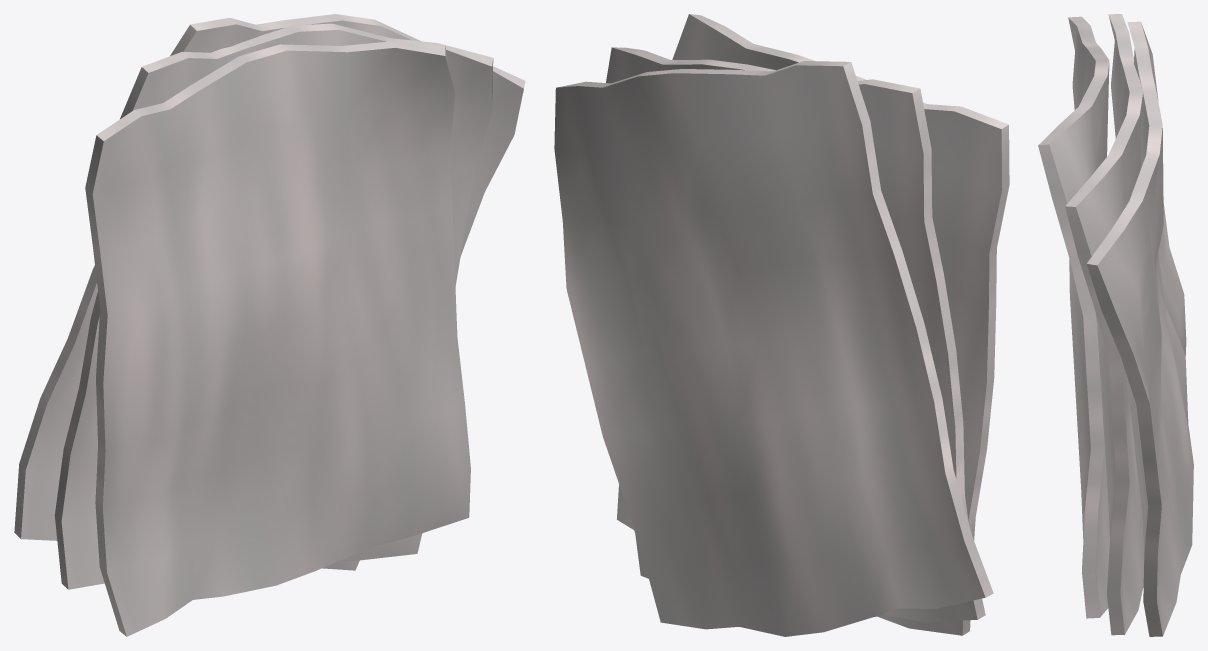
Rendered from yuba_001.fbx.
The picture shows the model from 3 angles, left to right: view 1: azimuth 30°, elevation 25°; view 2: azimuth 150°, elevation 25°; view 3: azimuth 270°, elevation 25°; orthographic projection. The views are drawn at different scales.
Visible parts, largest first — view 1: polySurface8; view 2: polySurface8; view 3: polySurface8.
Part boxes in pixels (x1,y1,x2,y2): polySurface8: (14, 14, 525, 636); polySurface8: (554, 14, 1009, 636); polySurface8: (1038, 14, 1193, 636).
Size of the model in its own units: 43.82 by 52.48 by 13.74.
1 material, 1 textured.
